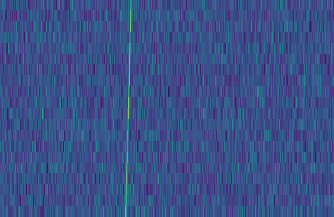signal: (119, 0, 134, 217)
